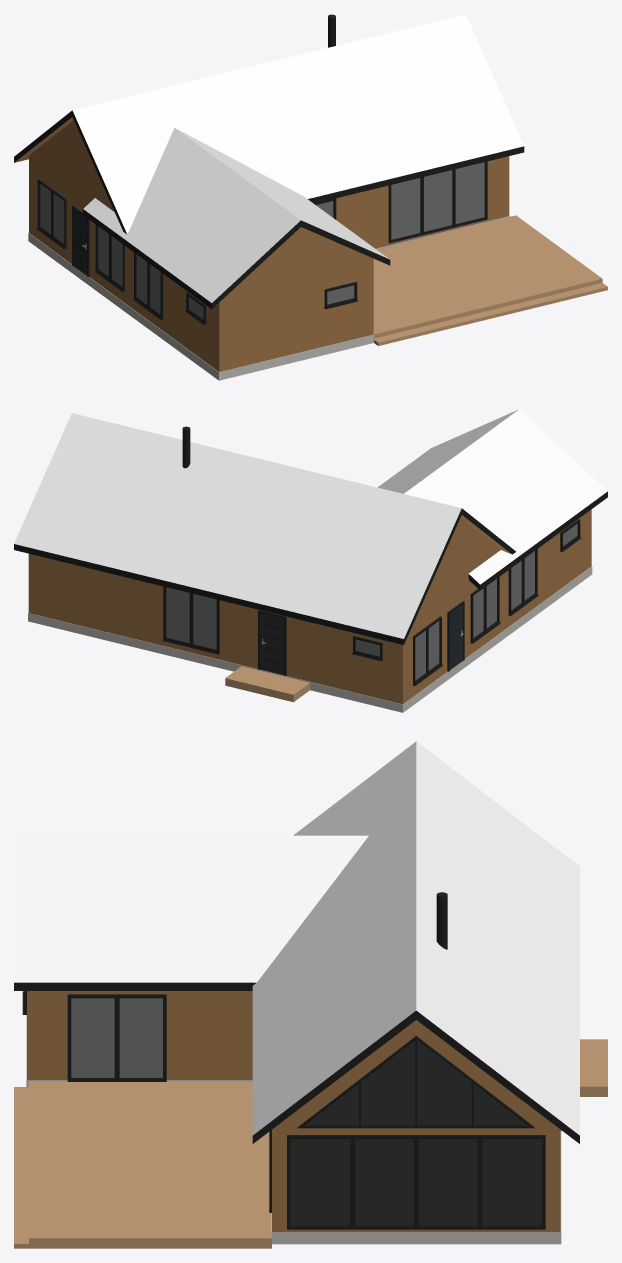
Rendered from oobik129_c0_p0_m0.glb.
3 renders of one model, top to bottom at view 1: azimuth 30°, elevation 25°; view 2: azimuth 150°, elevation 25°; view 3: azimuth 270°, elevation 25°, orthographic. The views are drawn at different scales.
Parts seen in each view (by area): view 1: roof, wall, deck, glass, curtain, fascia, frame, plinth, door; view 2: roof, wall, glass, curtain, plinth, fascia, frame, door, deck; view 3: roof, deck, glass, interior, wall, frame, curtain, fascia, plinth.
Boxes of the visible parts, bbox=[...] form: roof: bbox=[72, 14, 523, 302]; wall: bbox=[29, 120, 509, 371]; deck: bbox=[373, 215, 607, 345]; glass: bbox=[39, 162, 484, 319]; curtain: bbox=[40, 162, 484, 319]; fascia: bbox=[14, 110, 524, 308]; frame: bbox=[36, 161, 487, 324]; plinth: bbox=[28, 216, 509, 380]; door: bbox=[73, 209, 87, 275]; roof: bbox=[14, 409, 607, 638]; wall: bbox=[28, 509, 591, 704]; glass: bbox=[166, 523, 577, 680]; curtain: bbox=[166, 524, 577, 680]; plinth: bbox=[28, 566, 592, 712]; fascia: bbox=[14, 491, 607, 644]; frame: bbox=[162, 519, 581, 685]; door: bbox=[259, 604, 463, 675]; deck: bbox=[225, 666, 309, 702]; roof: bbox=[14, 741, 579, 1135]; deck: bbox=[14, 1039, 607, 1248]; glass: bbox=[71, 998, 542, 1225]; interior: bbox=[290, 1040, 542, 1225]; wall: bbox=[27, 991, 560, 1232]; frame: bbox=[22, 991, 561, 1229]; curtain: bbox=[71, 998, 162, 1077]; fascia: bbox=[14, 982, 579, 1143]; plinth: bbox=[26, 1015, 561, 1244].
Bounding box in the file's own units: 14.97 × 6.92 × 13.82.
13 materials, 5 textured.
